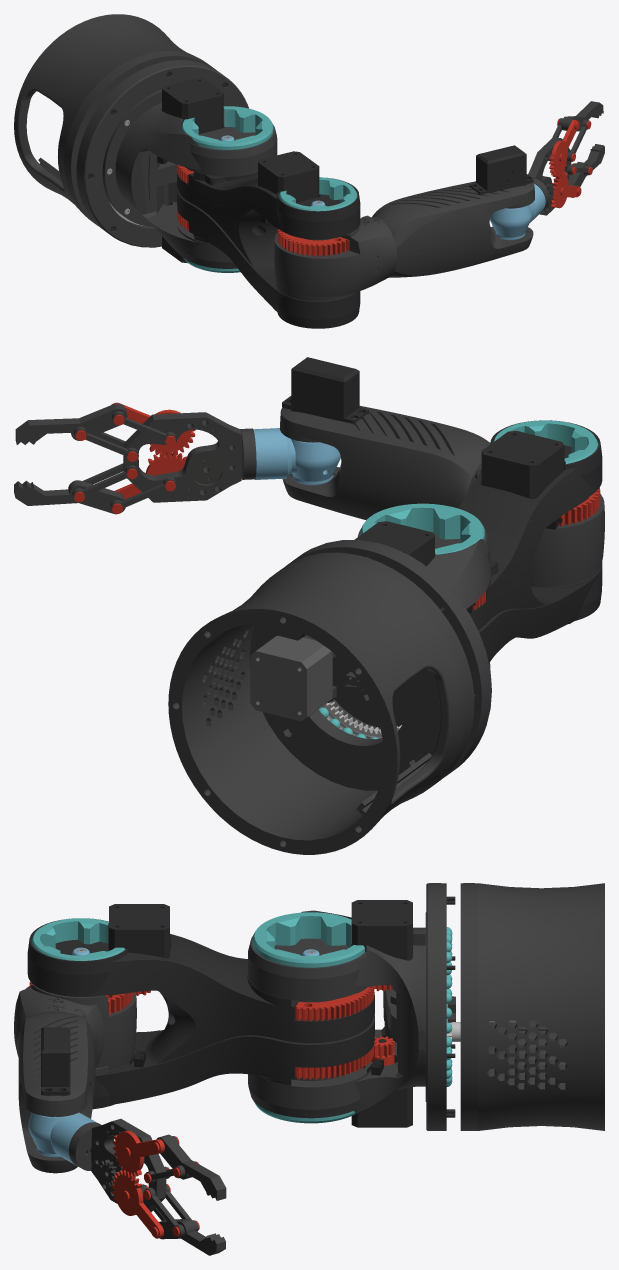
File: brazo_encargado.fbx
3 renders of one model, top to bottom at view 1: azimuth 30°, elevation 25°; view 2: azimuth 150°, elevation 25°; view 3: azimuth 270°, elevation 25°, orthographic. The views are drawn at different scales.
Parts seen in each view (by area): view 1: Body1 (×18), MeshBody1; view 2: Body1 (×22), MeshBody1; view 3: Body1 (×23), MeshBody1.
Boxes of the visible parts, x1,y1,x2,y2 form: Body1 (×18): (14,14,604,328); MeshBody1: (469,145,533,195); Body1 (×22): (14,402,604,854); MeshBody1: (282,357,368,424); Body1 (×23): (14,883,604,1255); MeshBody1: (41,1027,70,1095).
Size of the model in its own units: 438 by 170 by 405.
